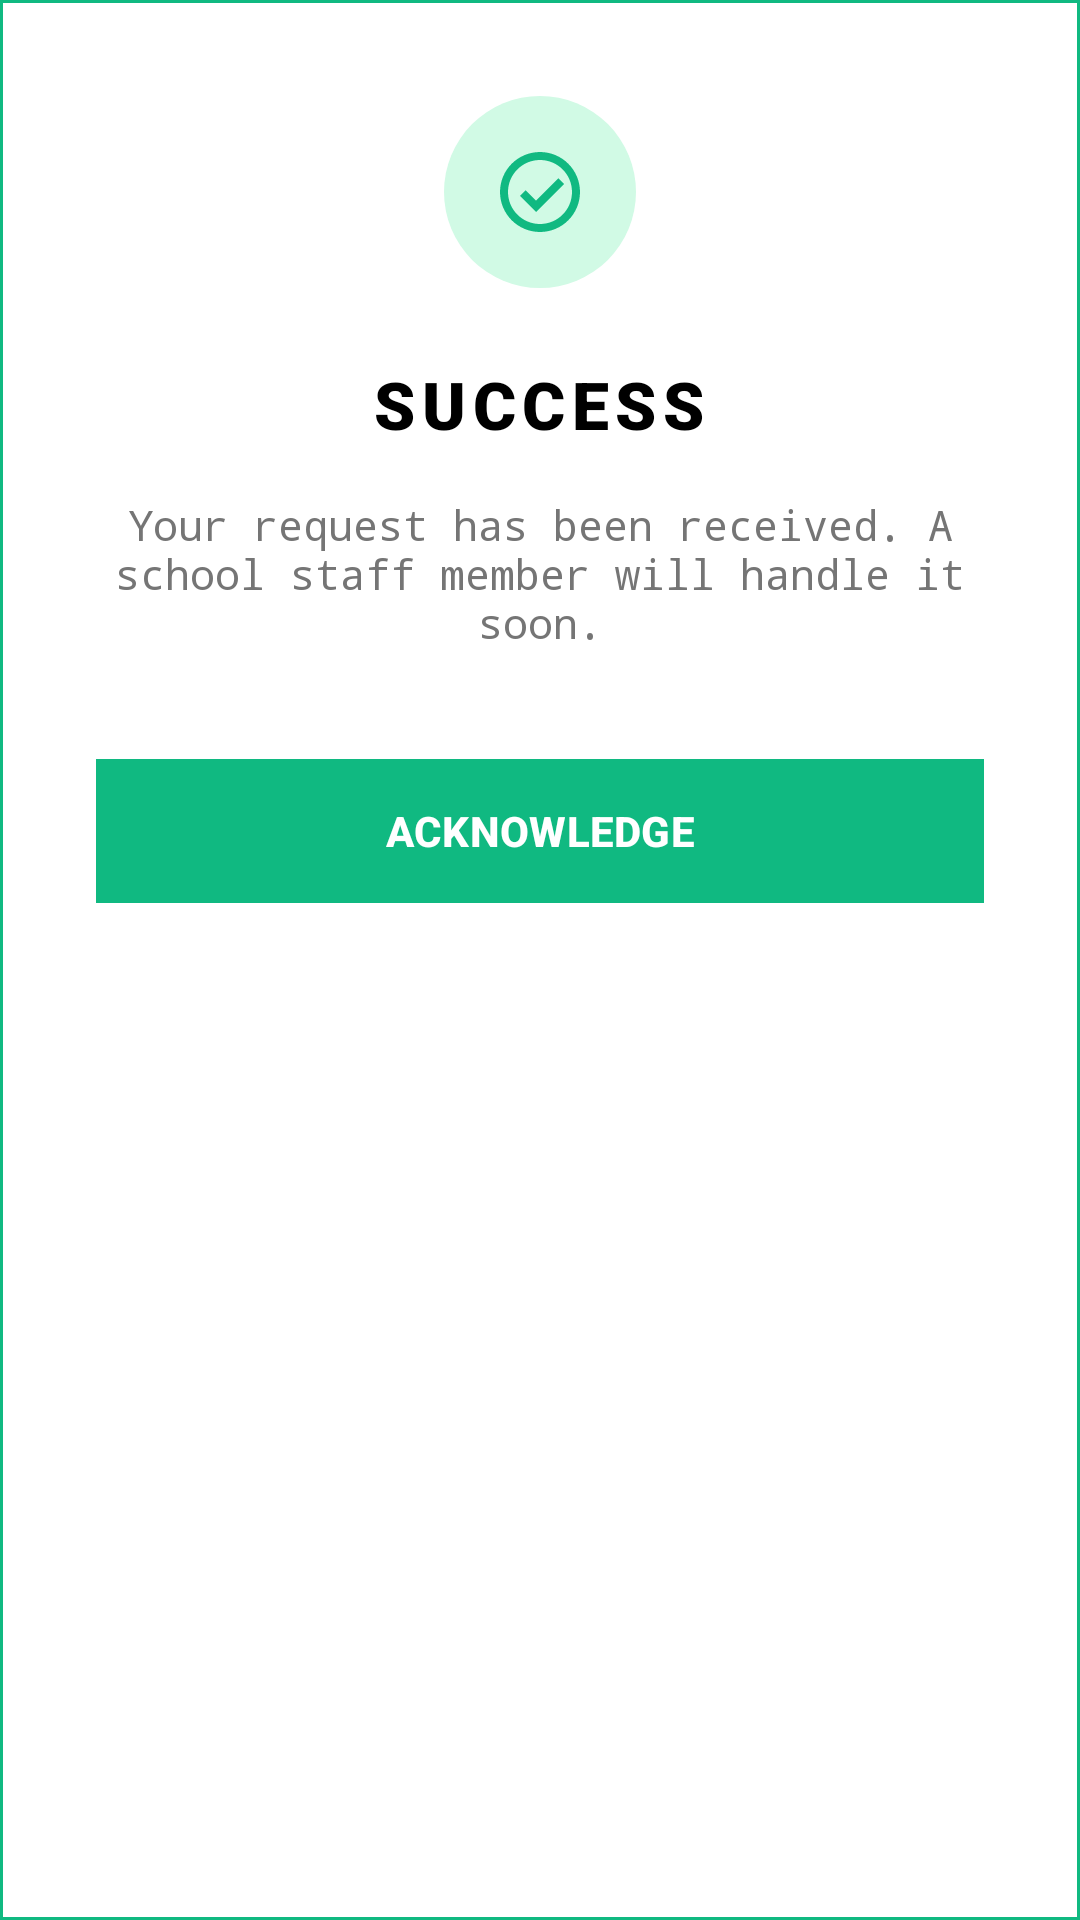

Where to tap for icons on this 1080px×1920px app screen, as [x,y]:
check circle: [540,192]
